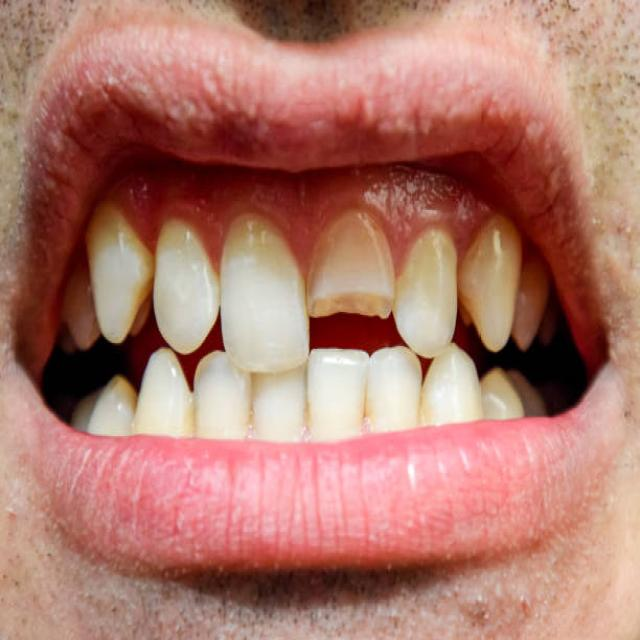tooth: (216, 214, 312, 374), (146, 216, 218, 355), (320, 207, 394, 340), (455, 201, 515, 346), (392, 246, 457, 360), (82, 232, 152, 336), (189, 346, 250, 436), (419, 344, 483, 426), (306, 353, 365, 435), (139, 346, 190, 431), (371, 350, 422, 427), (253, 368, 302, 443), (89, 382, 131, 428)
